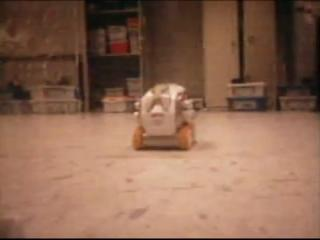cozmo: (130, 82, 200, 151)
